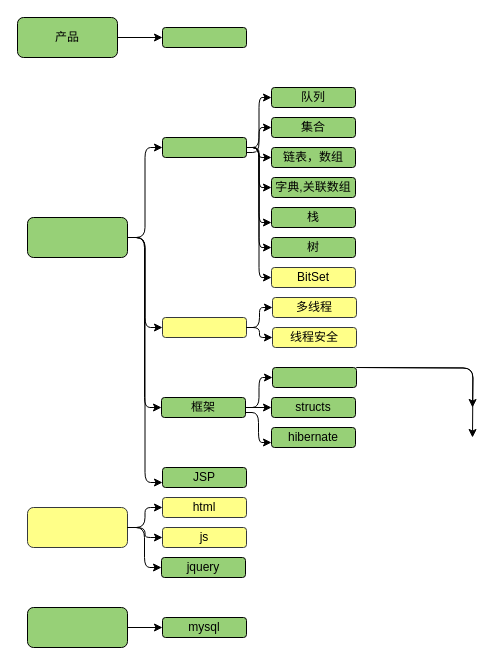
This 499x665 diagram has some shape labels left out. The shapes that lost their labels are listed below. From the top down, each one's centre as x and y in pixels, then its label:
At point (204, 37): "pc".
At point (204, 147): "数据结构".
At point (77, 237): "java".
At point (204, 327): "并发".
At point (314, 377): "spring".
At point (77, 527): "前端".
At point (77, 627): "数据库".
